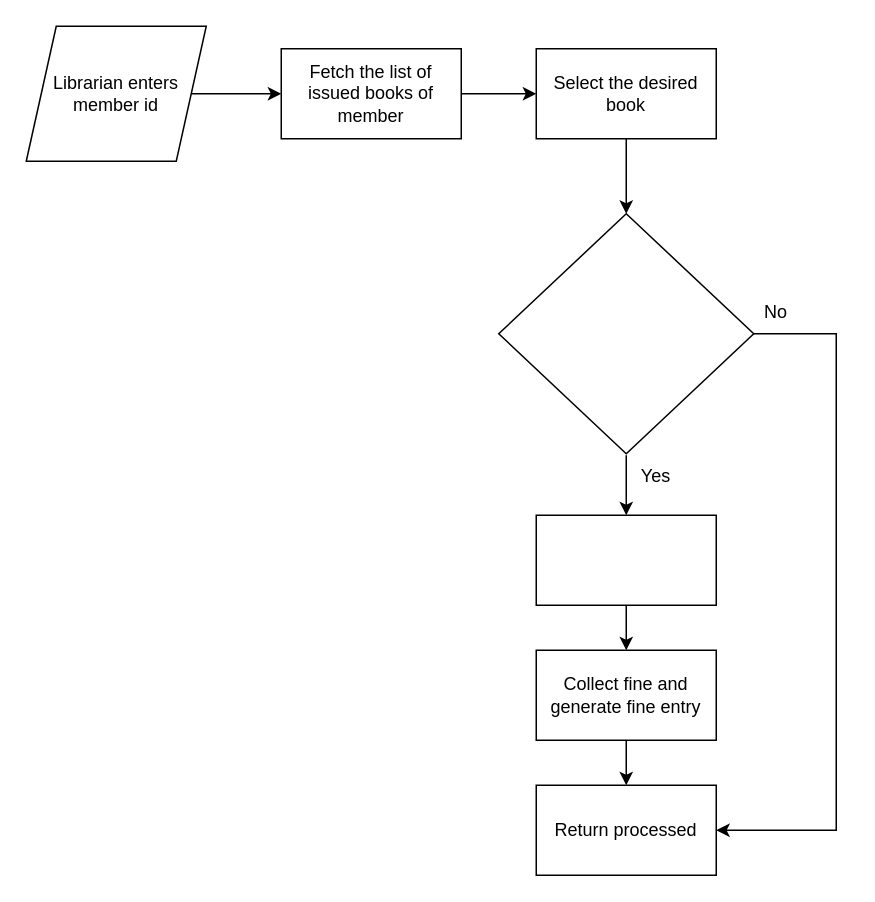
The diagram is 875 pixels wide and 902 high, and some of its shapes have lost their labels. The shapes that lost their labels are listed below. From the top down, each one's centre as x and y in pixels, then its label:
the point at 625,333: Current date > Expected return date?
the point at 625,559: Calculate Fine by Rs 5 per day
